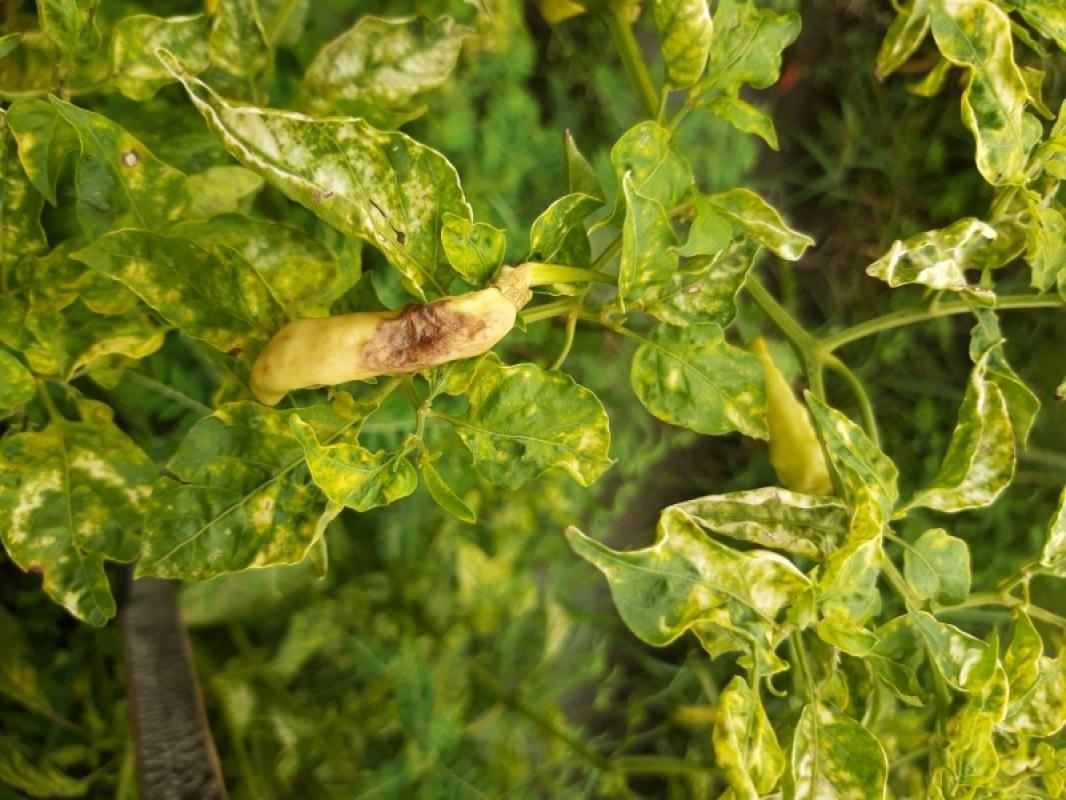antraknosa: (253, 285, 518, 405)
cabai_normal: (753, 336, 830, 496)
